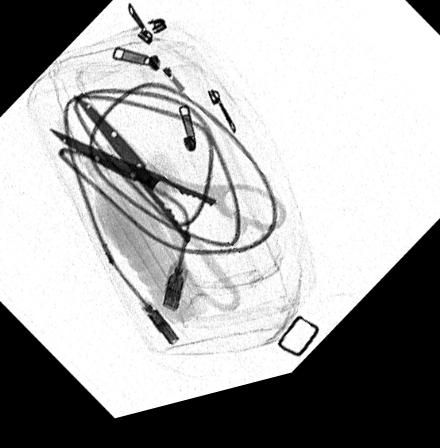Scissors: (47, 93, 292, 326)
